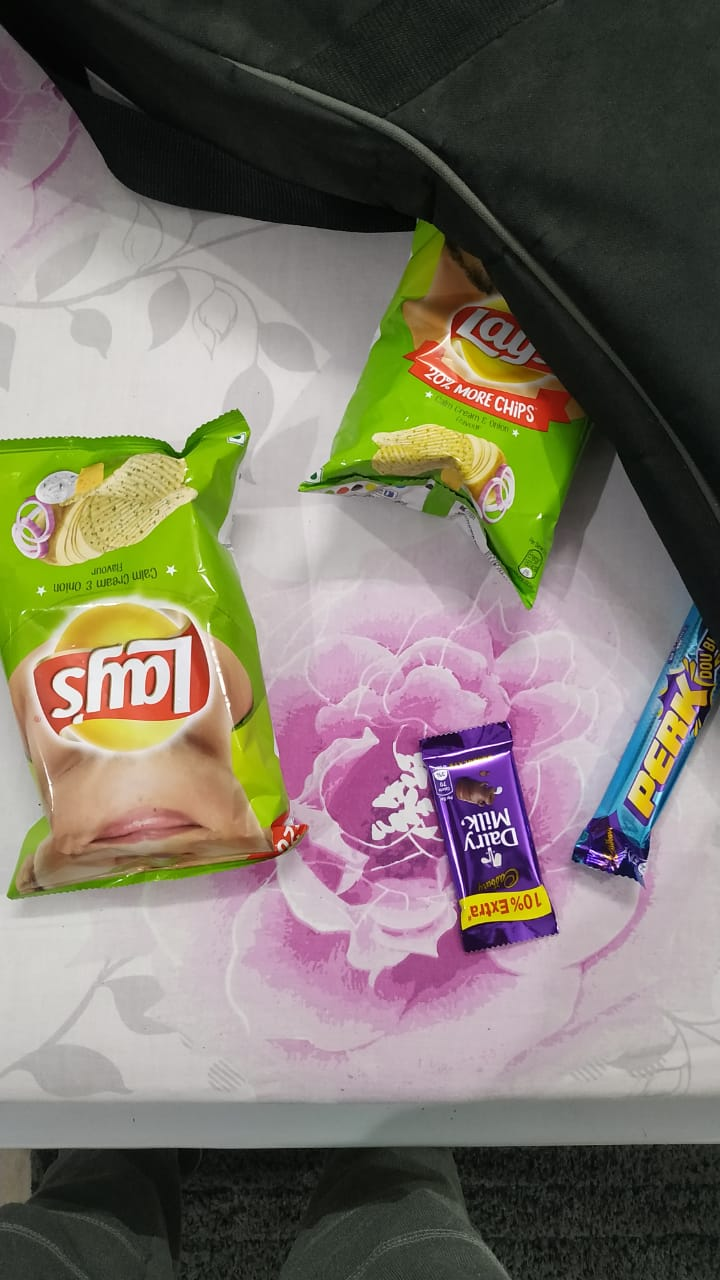dairy milk: (411, 727, 562, 972)
lays chips: (1, 419, 307, 892), (303, 214, 615, 600)
perk: (568, 578, 720, 886)
